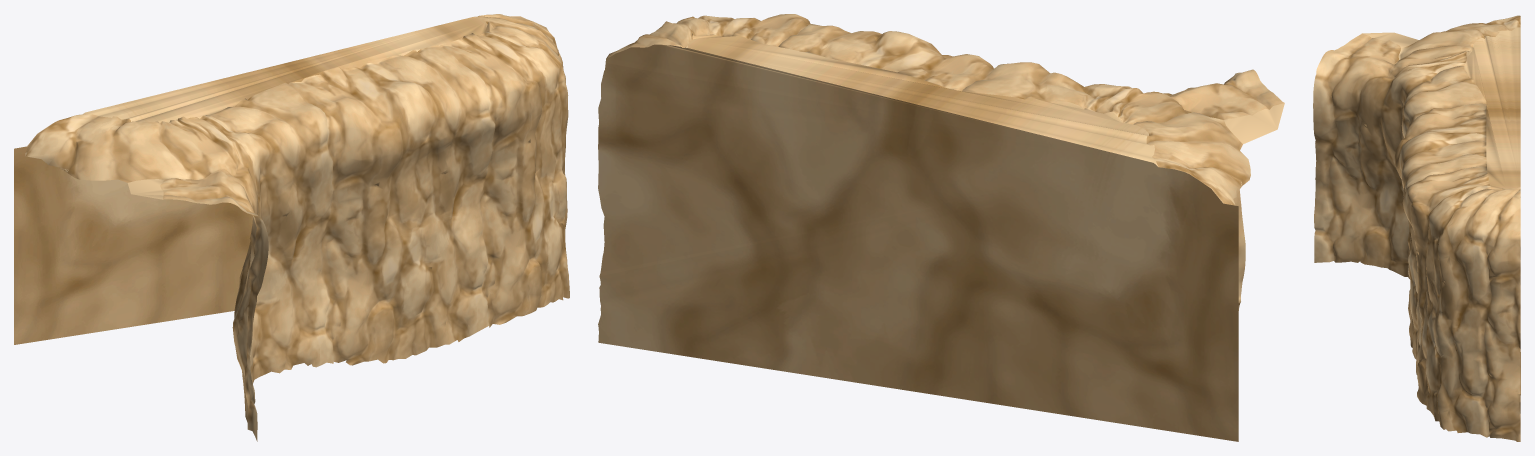
The model's file is SM_ENV_KNFRST_Wall_Af.FBX.
3 renders of one model, left to right at view 1: azimuth 30°, elevation 25°; view 2: azimuth 150°, elevation 25°; view 3: azimuth 270°, elevation 25°, orthographic. The views are drawn at different scales.
Parts seen in each view (by area): view 1: SM_ENV_KNFRST_Wall_Af; view 2: SM_ENV_KNFRST_Wall_Af; view 3: SM_ENV_KNFRST_Wall_Af.
Part boxes in pixels (x1,y1,x2,y2): SM_ENV_KNFRST_Wall_Af: (14,14,569,441); SM_ENV_KNFRST_Wall_Af: (598,14,1284,441); SM_ENV_KNFRST_Wall_Af: (1313,15,1520,441).
Bounding box in the file's own units: 7023 × 3360 × 2784.
